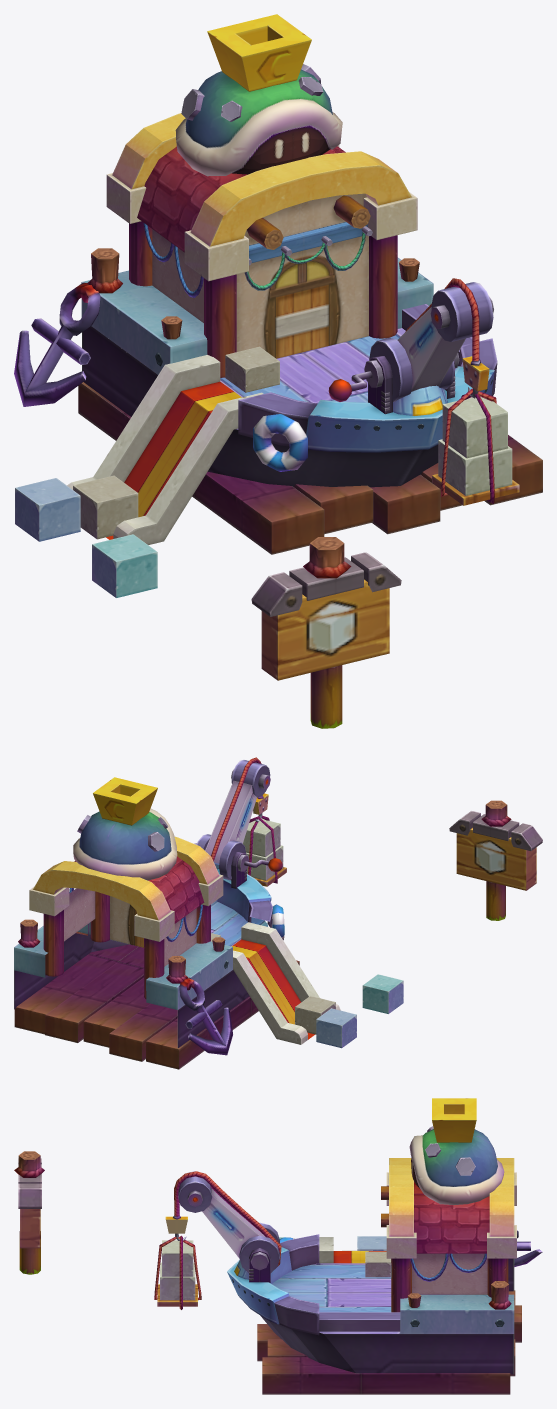
The model's file is scenes_construction_quarry01d.FBX.
The picture shows the model from 3 angles, top to bottom: view 1: azimuth 30°, elevation 25°; view 2: azimuth 150°, elevation 25°; view 3: azimuth 270°, elevation 25°; orthographic projection. The views are drawn at different scales.
Parts seen in each view (by area): view 1: scenes_construction_quarry01d; view 2: scenes_construction_quarry01d; view 3: scenes_construction_quarry01d.
Boxes of the visible parts, box(x1,y1,x2,y2) form: scenes_construction_quarry01d: box(14, 14, 542, 728); scenes_construction_quarry01d: box(14, 757, 542, 1069); scenes_construction_quarry01d: box(14, 1098, 542, 1394).
Size of the model in its own units: 1713 by 1343 by 2641.
